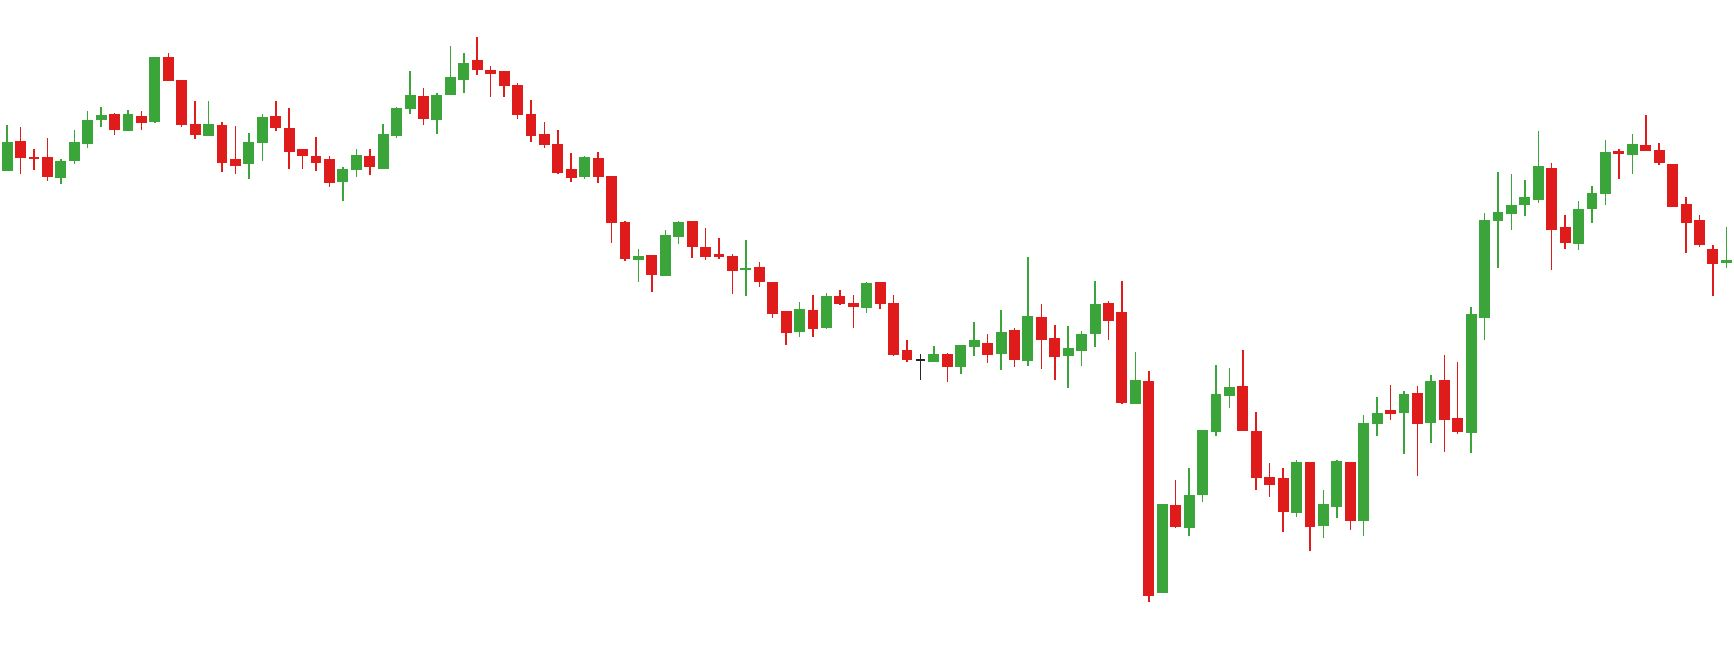sell: (858, 261, 1048, 352)
